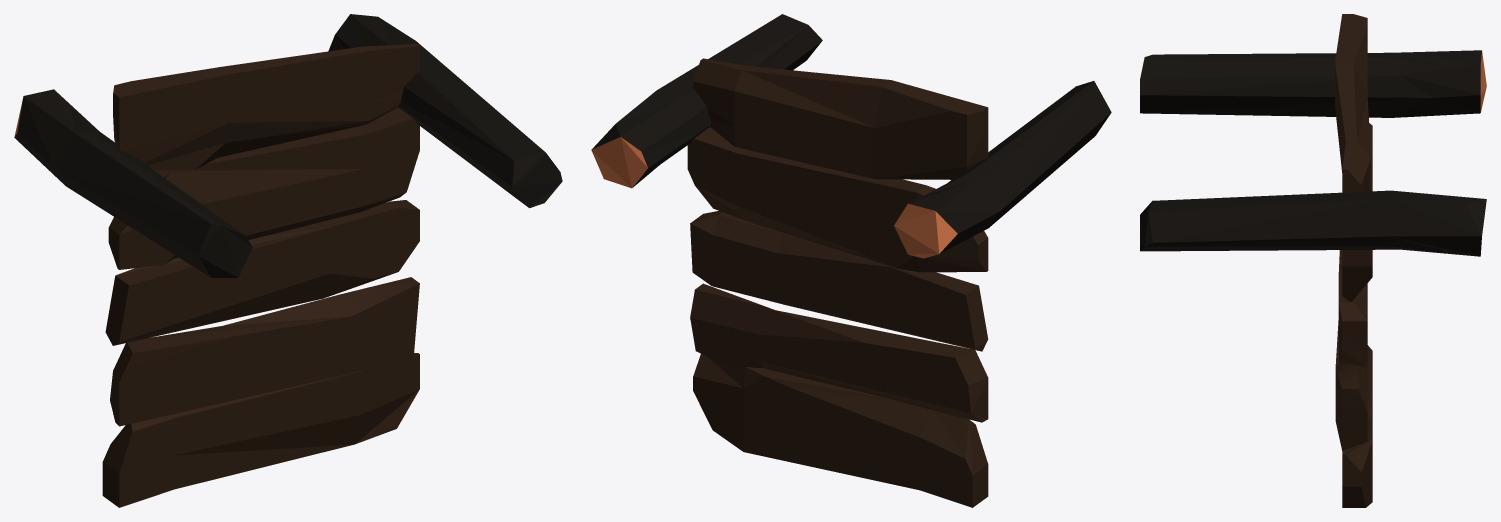
File: Pontoon_01.FBX
3 renders of one model, left to right at view 1: azimuth 30°, elevation 25°; view 2: azimuth 150°, elevation 25°; view 3: azimuth 270°, elevation 25°, orthographic. The views are drawn at different scales.
Visible parts, largest first — view 1: Pontoon_01; view 2: Pontoon_01; view 3: Pontoon_01.
Boxes of the visible parts, left/top/right/bottom form: Pontoon_01: left=14, top=14, right=562, bottom=507; Pontoon_01: left=591, top=14, right=1111, bottom=507; Pontoon_01: left=1140, top=14, right=1486, bottom=507.
Bounding box in the file's own units: 2.42 × 2.49 × 2.06.
